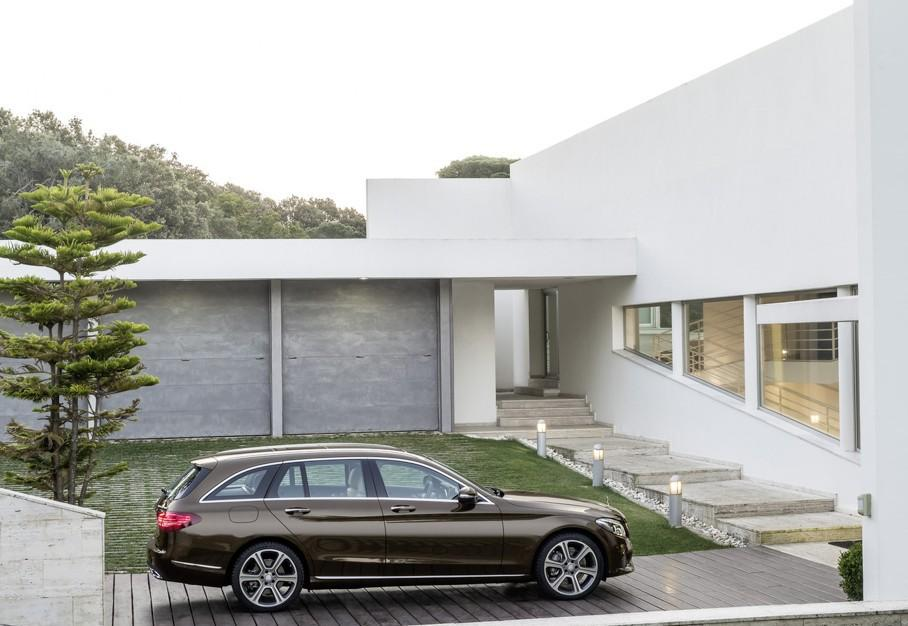Wagon: (146, 443, 635, 615)
